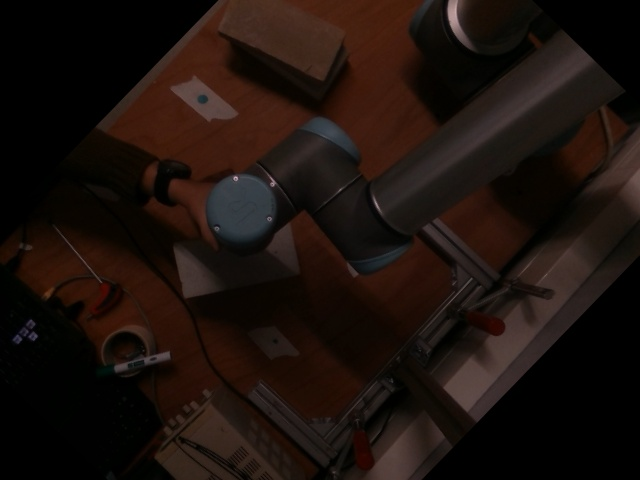brick: (219, 0, 344, 77)
